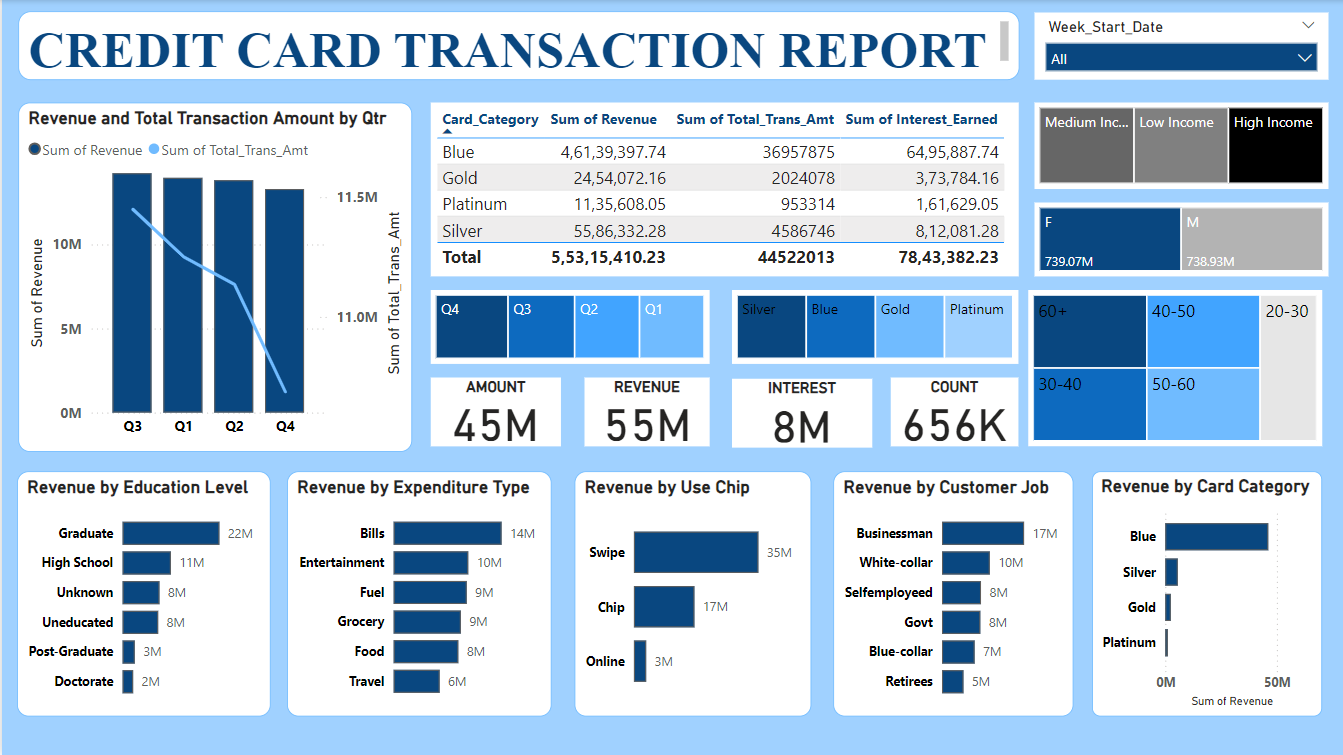

The page's visual inventory and layout, read from the dashboard file:
{"tool":"powerbi","page":{"name":"cc_creditcard","canvas":[1280,720],"ordinal":0},"visuals":[{"type":"lineStackedColumnComboChart","title":"Revenue and Total Transaction Amount by Qtr","fields":{"Y":["Sum(credit_card.Revenue)"],"Category":["credit_card.Qtr"],"Y2":["Sum(credit_card.Total_Trans_Amt)"]},"box":[15.9,97,375.4,332.4],"z":0},{"type":"textbox","box":[15.5,10.7,953.6,65.5],"z":1000},{"type":"barChart","title":"Revenue by Education Level","fields":{"Y":["Sum(credit_card.Revenue)"],"Category":["customer.Education_Level"]},"box":[14.3,448.6,241.8,233.8],"z":2000},{"type":"barChart","title":"Revenue by Use Chip","fields":{"Y":["Sum(credit_card.Revenue)"],"Category":["credit_card.Use Chip"]},"box":[545.6,448.6,225.9,233.8],"z":3000},{"type":"barChart","title":"Revenue by Card Category","fields":{"Y":["Sum(credit_card.Revenue)"],"Category":["credit_card.Card_Category"]},"box":[1038.7,448.6,219.5,233.8],"z":4000},{"type":"barChart","title":"Revenue by Expenditure Type","fields":{"Y":["Sum(credit_card.Revenue)"],"Category":["credit_card.Exp Type"]},"box":[271.4,448.8,252.4,233.3],"z":5000},{"type":"barChart","title":"Revenue by Customer Job","fields":{"Y":["Sum(credit_card.Revenue)"],"Category":["customer.Customer_Job"]},"box":[792.1,448.6,229,233.8],"z":6000},{"type":"tableEx","fields":{"Values":["credit_card.Card_Category","Sum(credit_card.Revenue)","Sum(credit_card.Total_Trans_Amt)","Sum(credit_card.Interest_Earned)"]},"box":[408.8,97,559.9,165.4],"z":7000},{"type":"card","title":"REVENUE","fields":{"Values":["Sum(credit_card.Revenue)"]},"box":[554.8,359.5,119,65.5],"z":8000},{"type":"card","title":"INTEREST","fields":{"Values":["Sum(credit_card.Interest_Earned)"]},"box":[695.2,360.7,133.3,65.5],"z":9000},{"type":"treemap","fields":{"Group":["credit_card.Qtr"],"Values":["Avg(credit_card.Client_Num)"]},"box":[408.3,276.2,265.5,70.2],"z":10000},{"type":"card","title":"AMOUNT","fields":{"Values":["Sum(credit_card.Total_Trans_Amt)"]},"box":[408.3,359.5,123.8,65.5],"z":11000},{"type":"card","title":"COUNT","fields":{"Values":["Sum(credit_card.Total_Trans_Vol)"]},"box":[846.4,359.5,121.4,65.5],"z":12000},{"type":"slicer","fields":{"Values":["credit_card.Week_Start_Date"]},"box":[983.3,11.9,279.8,64.3],"z":13000},{"type":"treemap","fields":{"Group":["customer.IncomeGroup"],"Values":["Avg(credit_card.Client_Num)"]},"box":[983.3,97.6,279.8,82.1],"z":14000},{"type":"treemap","fields":{"Group":["credit_card.Card_Category"],"Values":["Avg(credit_card.Client_Num)"]},"box":[695.2,276.2,272.6,70.2],"z":15000},{"type":"treemap","fields":{"Group":["customer.Gender"],"Values":["Avg(credit_card.Client_Num)"]},"box":[983.3,192.9,279.8,70.2],"z":16000},{"type":"treemap","fields":{"Group":["customer.AgeGroup"],"Values":["Avg(credit_card.Client_Num)"]},"box":[977.4,276.2,279.8,148.8],"z":17000}]}

Visuals, with their boxes in screenshot pixels (x1, y1, x2, y2), scaled from the page's 1280x720 canvas onto the 1343x755 screenshot:
"Revenue and Total Transaction Amount by Qtr" lineStackedColumnComboChart: [x1=17, y1=102, x2=411, y2=450]
textbox: [x1=16, y1=11, x2=1017, y2=80]
"Revenue by Education Level" barChart: [x1=15, y1=470, x2=269, y2=716]
"Revenue by Use Chip" barChart: [x1=572, y1=470, x2=809, y2=716]
"Revenue by Card Category" barChart: [x1=1090, y1=470, x2=1320, y2=716]
"Revenue by Expenditure Type" barChart: [x1=285, y1=471, x2=550, y2=715]
"Revenue by Customer Job" barChart: [x1=831, y1=470, x2=1071, y2=716]
tableEx - credit_card.Card_Category x Sum(credit_card.Revenue): [x1=429, y1=102, x2=1016, y2=275]
"REVENUE" card: [x1=582, y1=377, x2=707, y2=446]
"INTEREST" card: [x1=729, y1=378, x2=869, y2=447]
treemap - credit_card.Qtr x Avg(credit_card.Client_Num): [x1=428, y1=290, x2=707, y2=363]
"AMOUNT" card: [x1=428, y1=377, x2=558, y2=446]
"COUNT" card: [x1=888, y1=377, x2=1015, y2=446]
slicer - credit_card.Week_Start_Date: [x1=1032, y1=12, x2=1325, y2=80]
treemap - customer.IncomeGroup x Avg(credit_card.Client_Num): [x1=1032, y1=102, x2=1325, y2=188]
treemap - credit_card.Card_Category x Avg(credit_card.Client_Num): [x1=729, y1=290, x2=1015, y2=363]
treemap - customer.Gender x Avg(credit_card.Client_Num): [x1=1032, y1=202, x2=1325, y2=276]
treemap - customer.AgeGroup x Avg(credit_card.Client_Num): [x1=1026, y1=290, x2=1319, y2=446]
